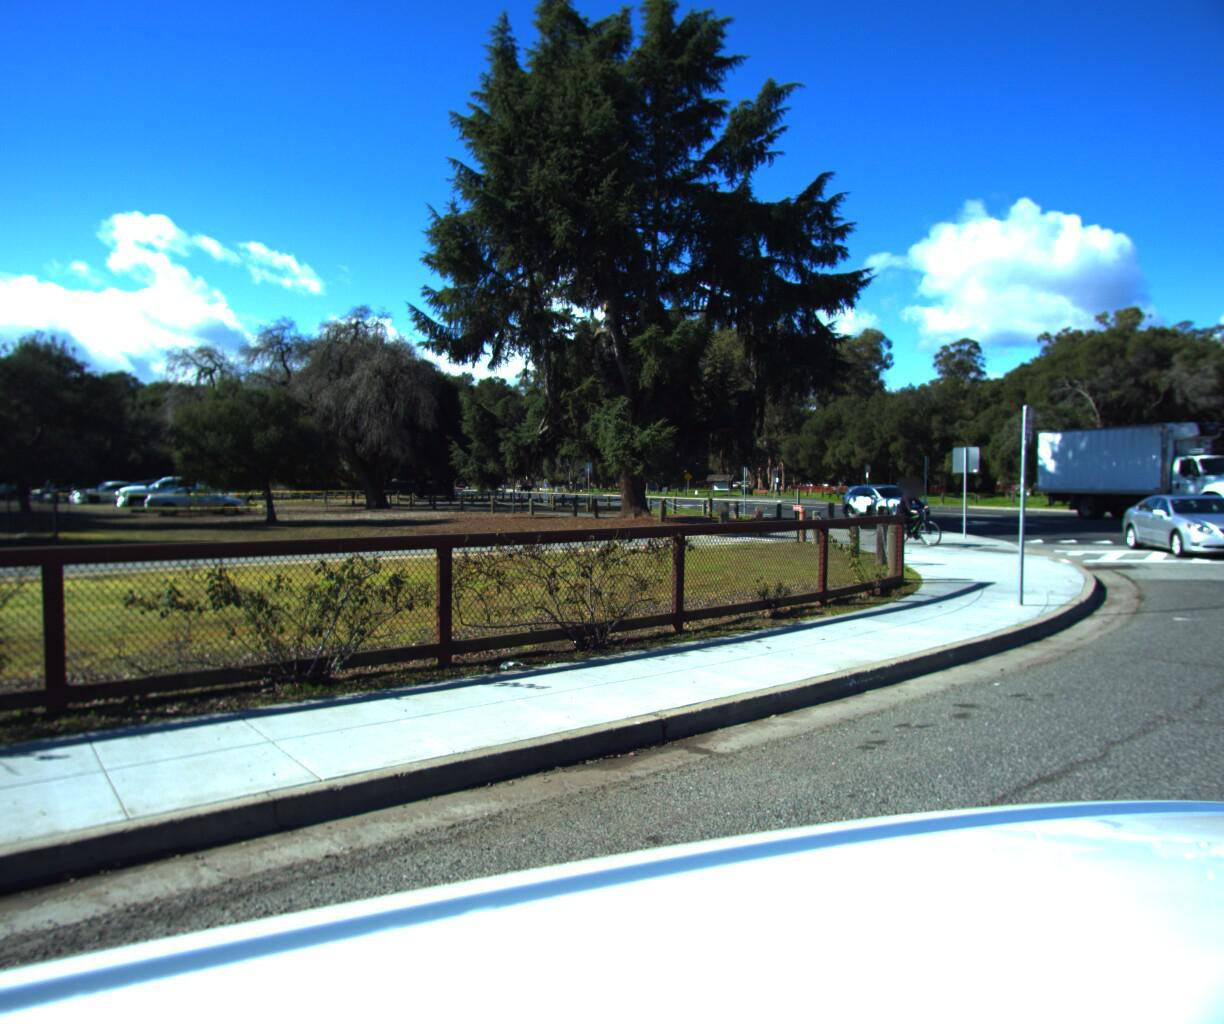bicycle: (877, 477, 959, 544)
car: (1115, 486, 1224, 559), (829, 478, 930, 521)
truck: (1026, 413, 1224, 524)
